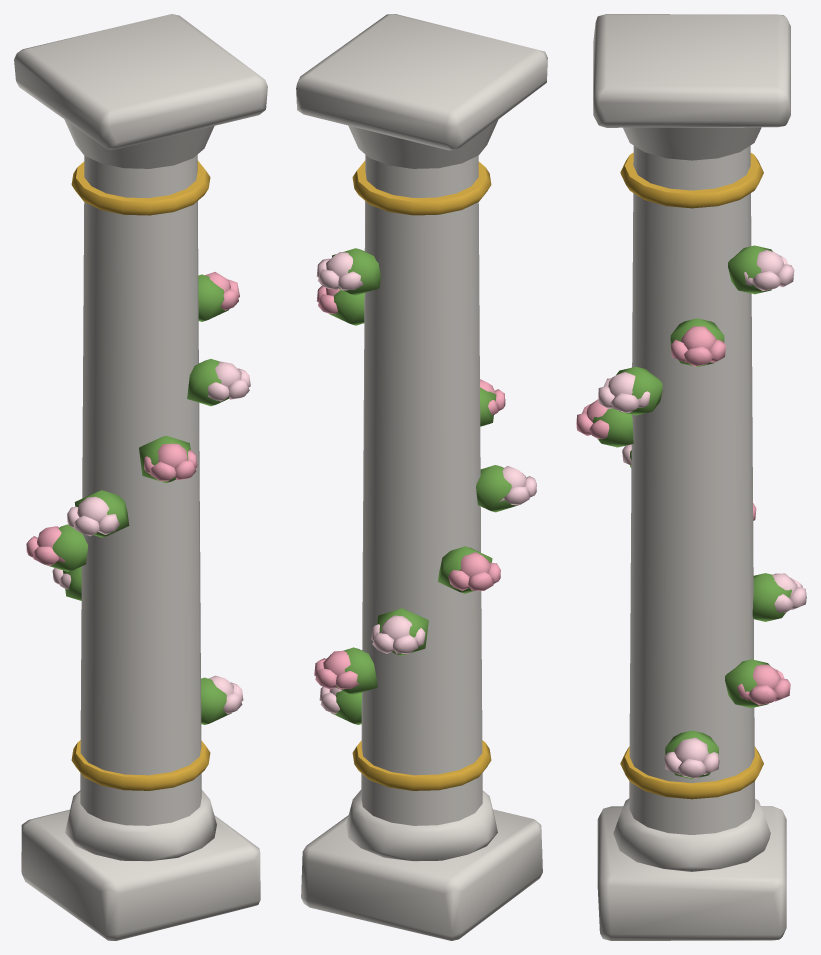
Rendered from coluna.glb.
3 renders of one model, left to right at view 1: azimuth 30°, elevation 25°; view 2: azimuth 150°, elevation 25°; view 3: azimuth 270°, elevation 25°, orthographic. The views are drawn at different scales.
Visible parts, largest first — view 1: Coluna; view 2: Coluna; view 3: Coluna.
Boxes of the visible parts, left/top/right/bottom form: Coluna: left=14, top=14, right=267, bottom=940; Coluna: left=296, top=14, right=547, bottom=940; Coluna: left=576, top=14, right=806, bottom=940.
Bounding box in the file's own units: 0.5047 × 2.1 × 0.512.
